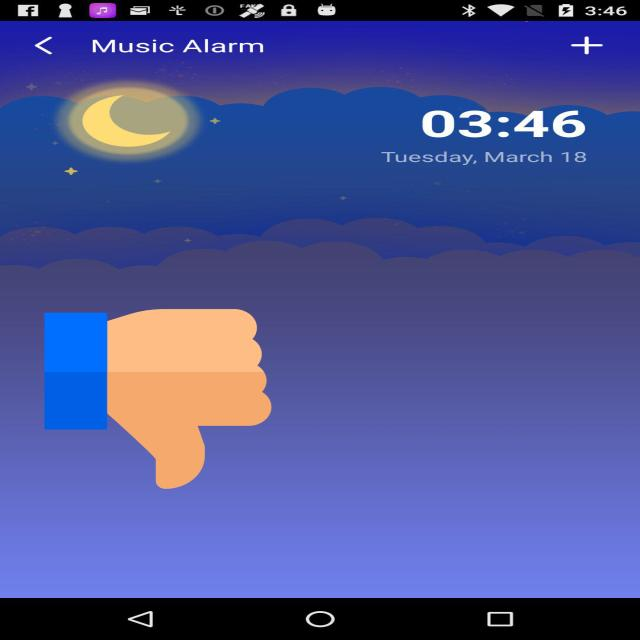obstruction: (45, 305, 272, 493)
